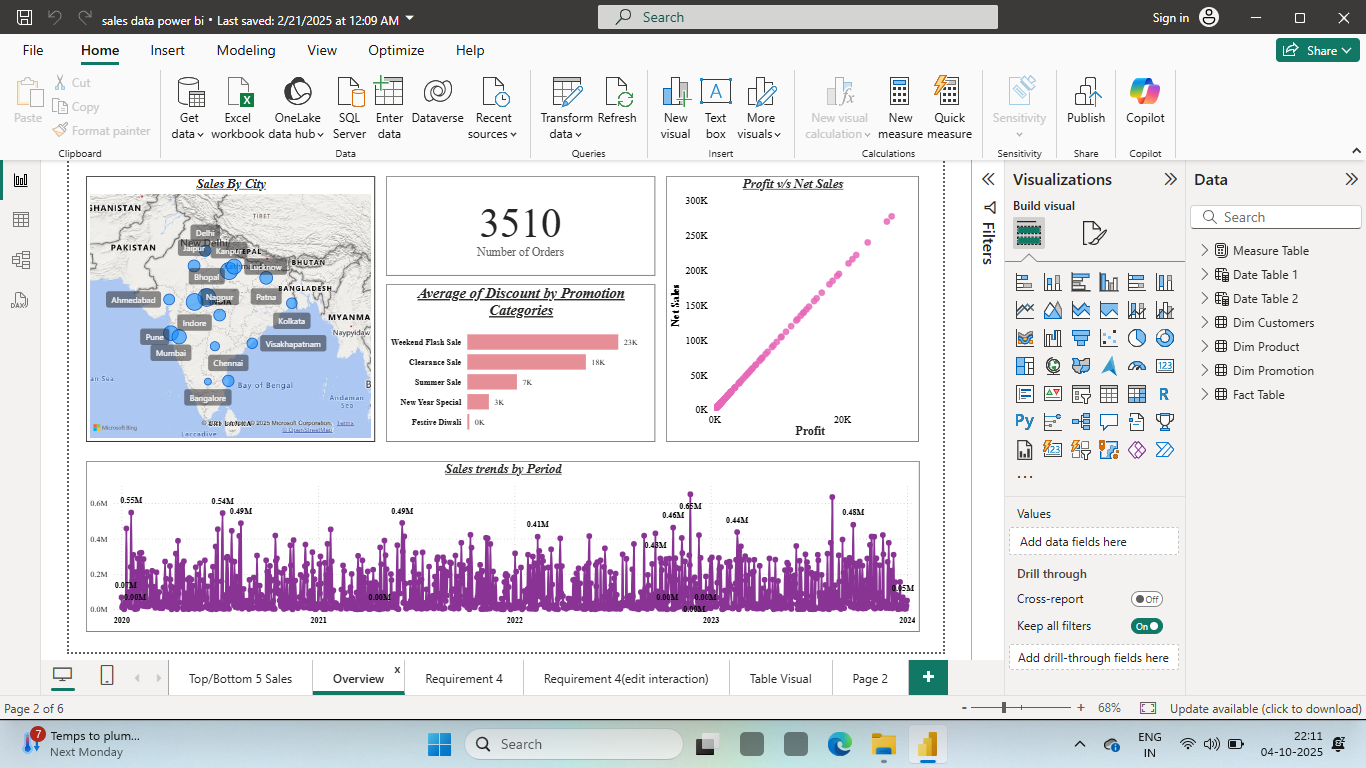

The dashboard page shown, as its layout file describes it:
{"tool":"powerbi","page":{"name":"Overview","canvas":[1280,720],"ordinal":1},"visuals":[{"type":"lineChart","title":"Sales trends by Period","fields":{"Category":["Fact Table.Date (dd/mm/yyyy).Variation.Date Hierarchy.Year"],"Y":["Fact Table.Net Sales   "]},"box":[25.2,440.1,1219.5,250.3],"z":0},{"type":"scatterChart","title":"Profit v/s Net Sales   ","fields":{"X":["Fact Table.Profit"],"Y":["Fact Table.Net Sales   "]},"box":[873.7,23.4,370.2,389.3],"z":1000},{"type":"barChart","title":"Average of Discount  by Promotion Categories","fields":{"Y":["Fact Table.Discount "],"Category":["Dim Promotion.Promotion Name"]},"box":[463.9,181.5,393.7,231.2],"z":2000},{"type":"map","title":"Sales By City","fields":{"Category":["Dim Customers.City"],"Size":["Fact Table.Net Sales   "]},"box":[24.9,23.4,422.9,389.3],"z":3000},{"type":"card","fields":{"Values":["Fact Table.OrderID"]},"box":[463.9,23.4,393.7,146.3],"z":4000}]}

Visuals, with their boxes on the page's 1280x720 design canvas (x1, y1, x2, y2). These are canvas units, not pixel positions in the 1366x768 screenshot, which may show the page scaled, cropped or inside an application window:
"Sales trends by Period" lineChart: box(25, 440, 1245, 690)
"Profit v/s Net Sales   " scatterChart: box(874, 23, 1244, 413)
"Average of Discount  by Promotion Categories" barChart: box(464, 182, 858, 413)
"Sales By City" map: box(25, 23, 448, 413)
card - Fact Table.OrderID: box(464, 23, 858, 170)
